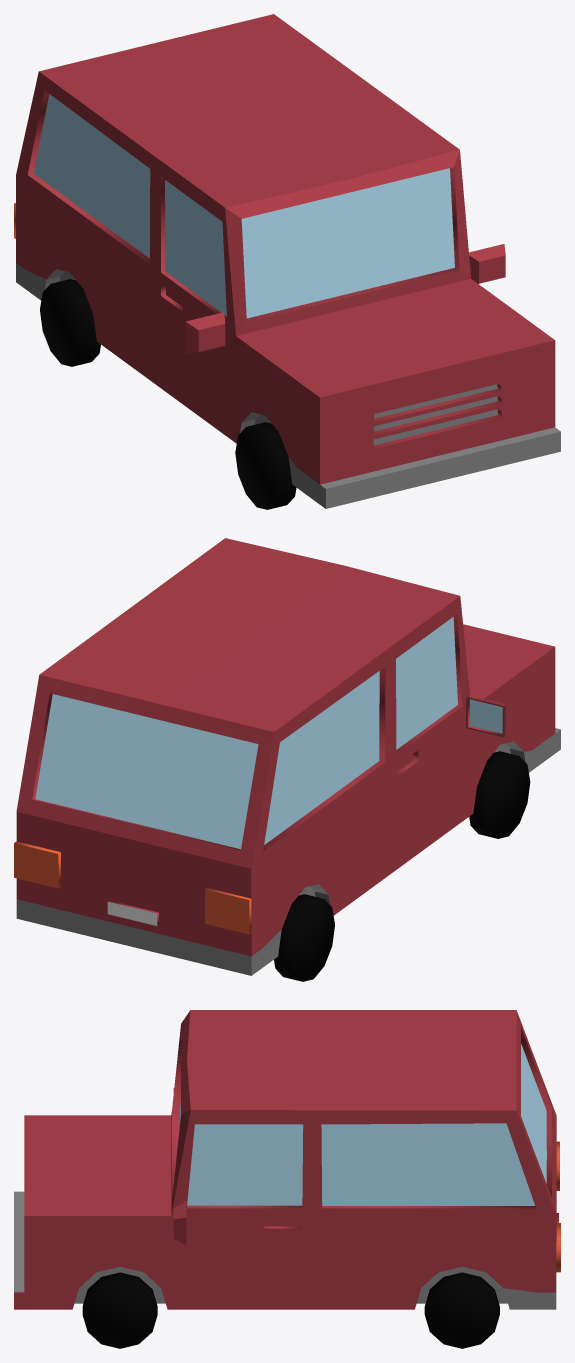
File: car 1.fbx
The picture shows the model from 3 angles, top to bottom: view 1: azimuth 30°, elevation 25°; view 2: azimuth 150°, elevation 25°; view 3: azimuth 270°, elevation 25°; orthographic projection. The views are drawn at different scales.
Visible parts, largest first — view 1: ST_Veh_Car_Blue_Z, Wheel_fr, Wheel_rr; view 2: ST_Veh_Car_Blue_Z, Wheel_rr, Wheel_fr; view 3: ST_Veh_Car_Blue_Z, Wheel_fl, Wheel_rl.
Part boxes in pixels (left/top/right/bottom): ST_Veh_Car_Blue_Z: left=14, top=14, right=560, bottom=508; Wheel_fr: left=235, top=422, right=296, bottom=509; Wheel_rr: left=40, top=279, right=100, bottom=366; ST_Veh_Car_Blue_Z: left=14, top=538, right=560, bottom=975; Wheel_rr: left=274, top=894, right=334, bottom=981; Wheel_fr: left=469, top=751, right=530, bottom=838; ST_Veh_Car_Blue_Z: left=14, top=1010, right=560, bottom=1309; Wheel_fl: left=82, top=1272, right=157, bottom=1348; Wheel_rl: left=424, top=1272, right=499, bottom=1348.
Bounding box in the file's own units: 3.16 × 2.55 × 5.37.
